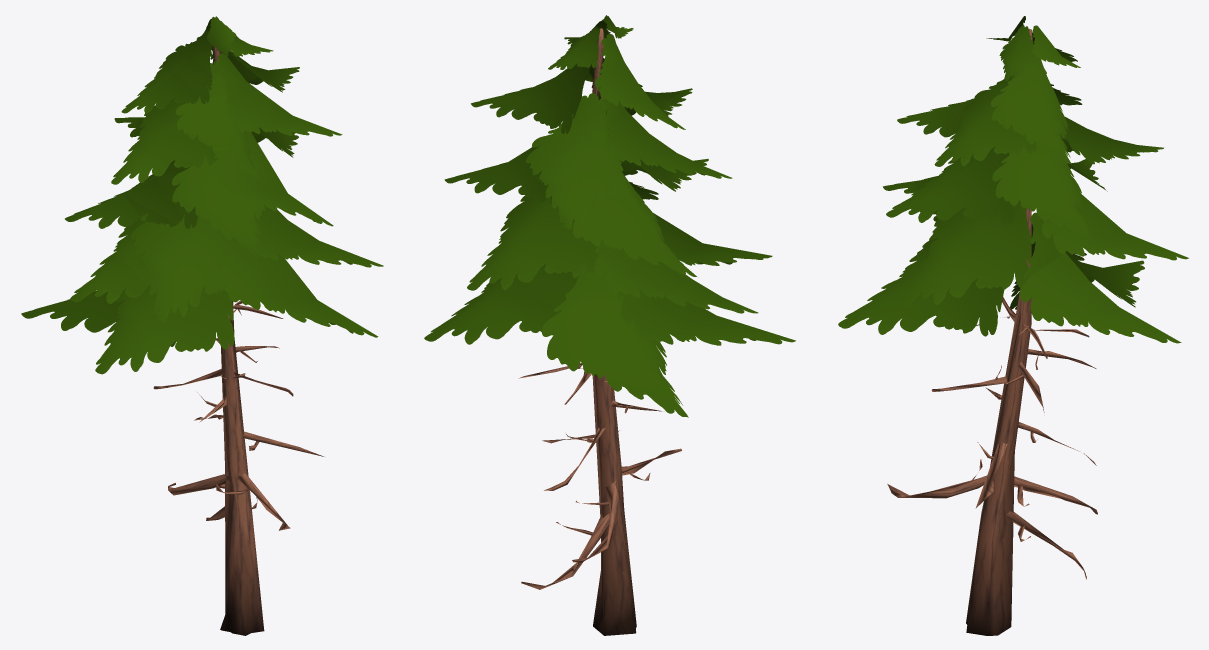
Rendered from Pine_3@lod.gltf.
The picture shows the model from 3 angles, left to right: view 1: azimuth 30°, elevation 25°; view 2: azimuth 150°, elevation 25°; view 3: azimuth 270°, elevation 25°; orthographic projection. The views are drawn at different scales.
Parts seen in each view (by area): view 1: Pine_3; view 2: Pine_3; view 3: Pine_3.
Boxes of the visible parts, <box> form: Pine_3: <box>21,16,383,635</box>; Pine_3: <box>424,15,795,635</box>; Pine_3: <box>838,16,1188,635</box>.
Size of the model in its own units: 3.61 by 7.39 by 4.
Materials: 2 (2 with a texture image).
